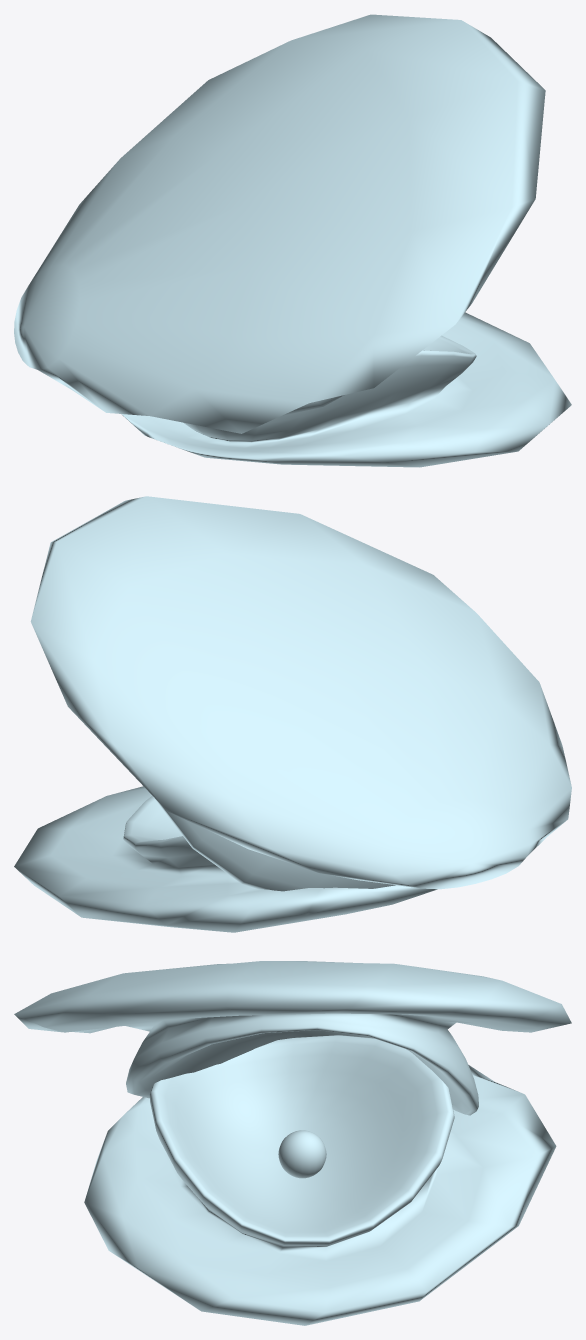
File: AGClam.fbx
3 renders of one model, top to bottom at view 1: azimuth 30°, elevation 25°; view 2: azimuth 150°, elevation 25°; view 3: azimuth 270°, elevation 25°, orthographic. The views are drawn at different scales.
Visible parts, largest first — view 1: pSphere4; view 2: pSphere4; view 3: pSphere4.
Part boxes in pixels (left/top/right/bottom): pSphere4: left=14, top=14, right=571, bottom=467; pSphere4: left=14, top=496, right=571, bottom=932; pSphere4: left=14, top=961, right=571, bottom=1325.
Bounding box in the file's own units: 0.5695 × 0.381 × 0.5795.
